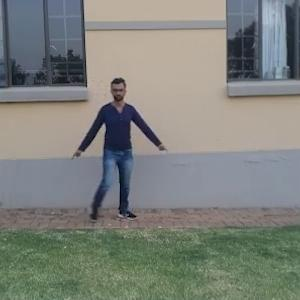land: (67, 74, 175, 237)
